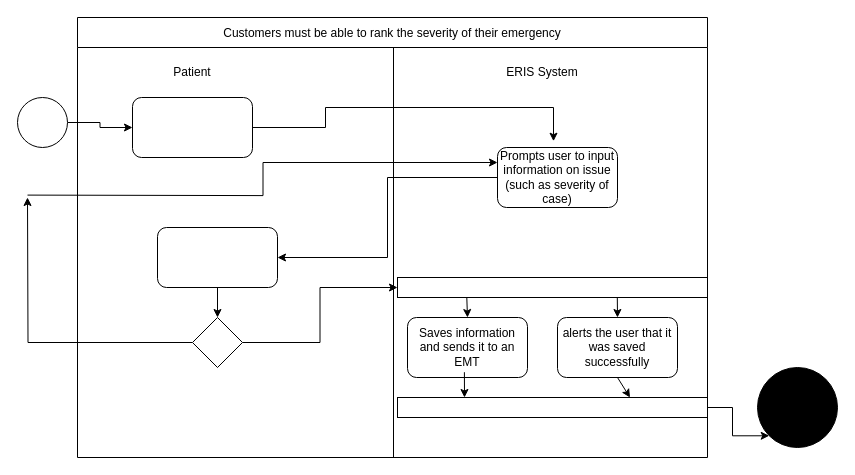
Image size: 855x475. Some labels were removed from this diagram. The box of each missing label's shape, as (x1, y1, x2, y2) in pixels:
Inputs the information requested: (156, 226, 278, 288)
Selects Dispatch Request Form: (132, 96, 252, 158)
